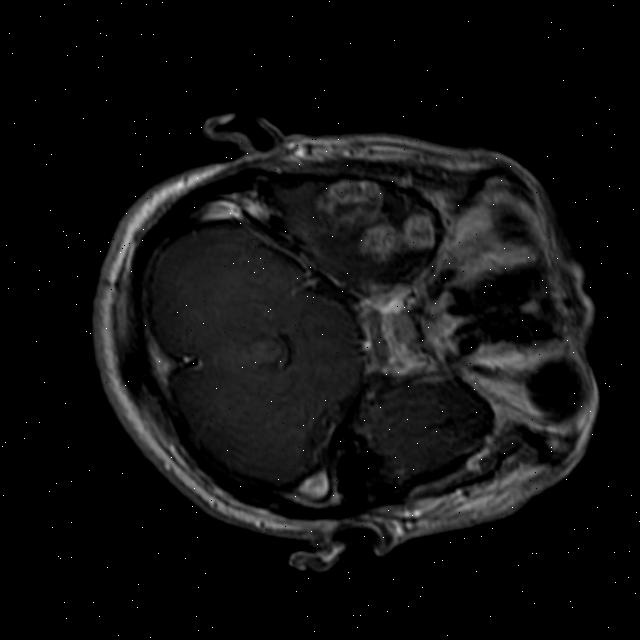Glioma: (304, 168, 392, 240), (350, 220, 406, 270), (393, 207, 440, 257)
